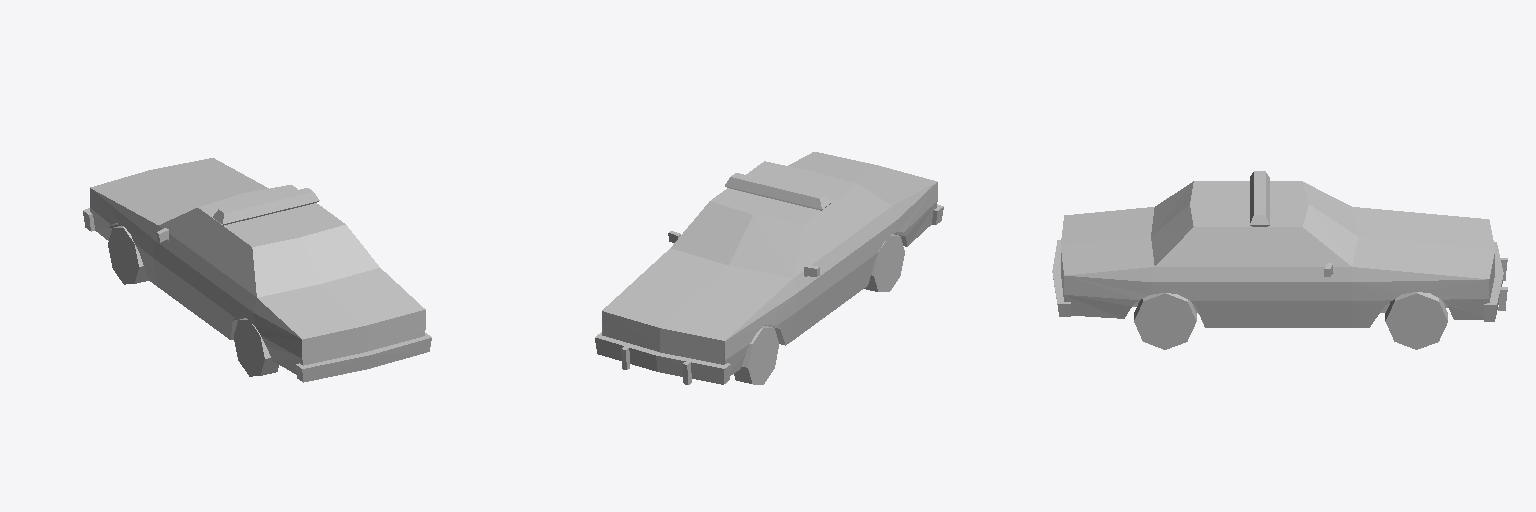
Rendered from Car5Police_o3.obj.
3 renders of one model, left to right at view 1: azimuth 30°, elevation 25°; view 2: azimuth 150°, elevation 25°; view 3: azimuth 270°, elevation 25°, orthographic.
Parts seen in each view (by area): view 1: Car5_Police; view 2: Car5_Police; view 3: Car5_Police.
Part boxes in pixels (x1,y1,x2,y2): Car5_Police: (83,158,431,382); Car5_Police: (595,152,943,384); Car5_Police: (1052,171,1507,349).
Bounding box in the file's own units: 1.36 × 1.1 × 3.61.